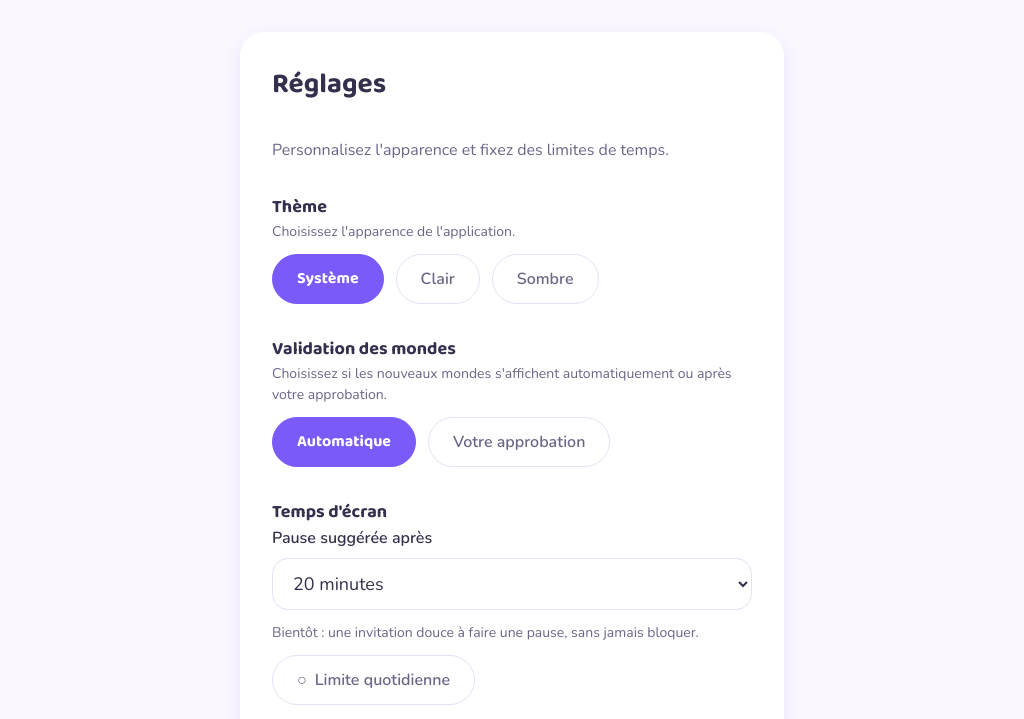
Scenario: SettingsForm — feedback d'erreur (doublé d'icône ⚠️) › action { ok:false, code } ⇒ role=alert avec le message mappé
Step 1. Click the button "Sombre" → [545, 279], box [492,254,599,304]
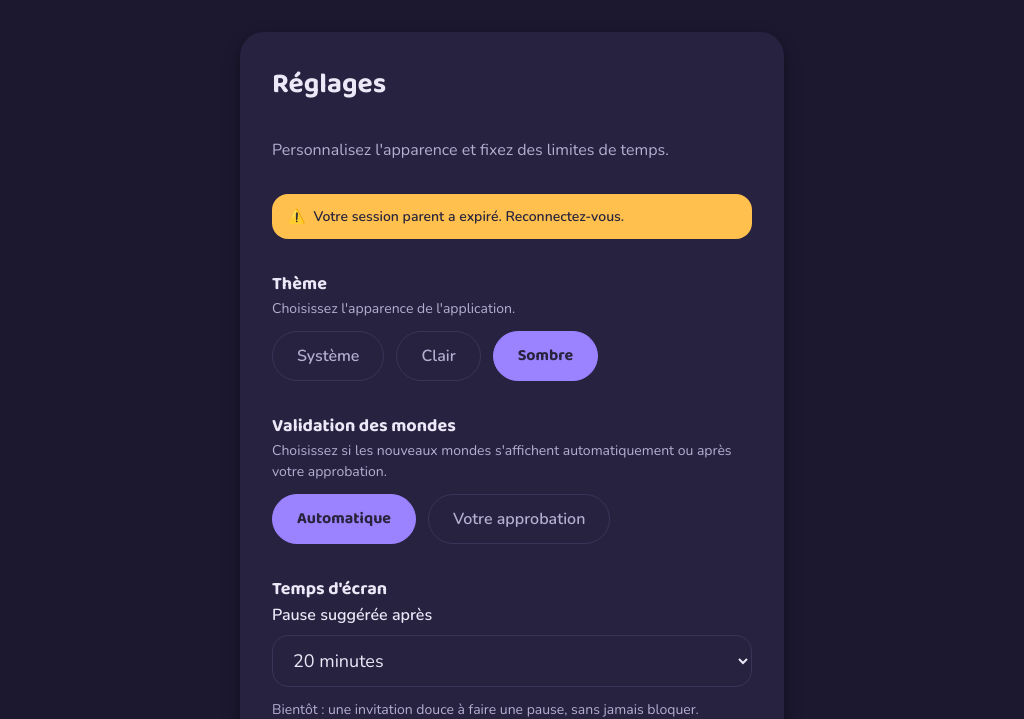
Check: the message shows "Votre session parent a expiré. Reconnectez-vous.", box [314,207,624,226]
